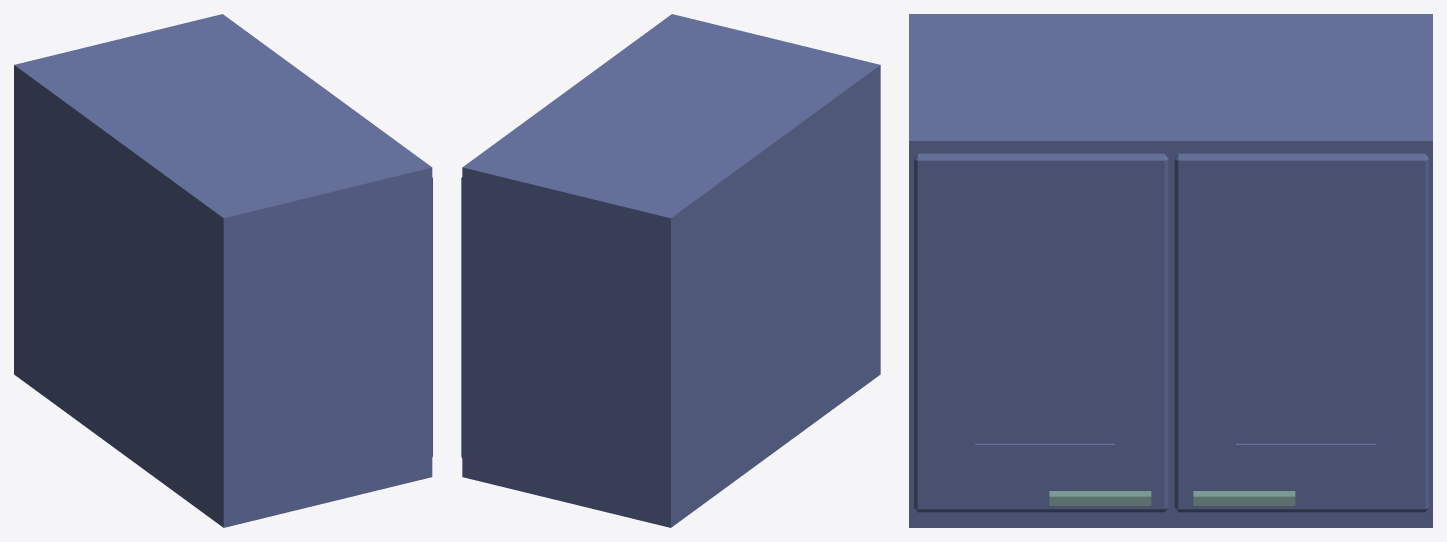
File: CupBoard_Sink.fbx
The picture shows the model from 3 angles, left to right: view 1: azimuth 30°, elevation 25°; view 2: azimuth 150°, elevation 25°; view 3: azimuth 270°, elevation 25°; orthographic projection. The views are drawn at different scales.
Visible parts, largest first — view 1: pasted__pCube2; view 2: pasted__pCube2, pasted__pasted__pasted__pasted__pasted__pasted__pasted__past; view 3: pasted__pasted__pasted__pasted__pasted__pasted__pasted__past (×4), pasted__pCube2.
Boxes of the visible parts, x1,y1,x2,y2 form: pasted__pCube2: (14, 14, 432, 527); pasted__pCube2: (462, 14, 880, 527); pasted__pasted__pasted__pasted__pasted__pasted__pasted__past: (461, 177, 462, 458); pasted__pasted__pasted__pasted__pasted__pasted__pasted__past (×4): (914, 153, 1428, 512); pasted__pCube2: (909, 14, 1432, 527).
Size of the model in its own units: 3.06 by 4.08 by 5.
